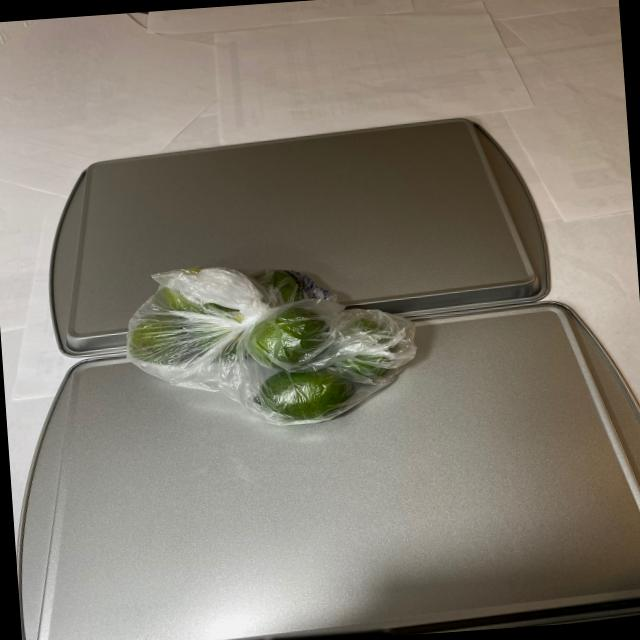lemon: (122, 256, 427, 426)
